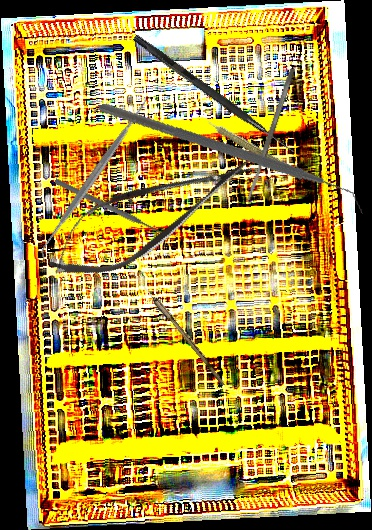Chopper: (98, 52, 363, 267)
Handpiece: (199, 111, 307, 183)
Hook Surgical: (131, 34, 299, 156)
Micro Scissor: (34, 132, 266, 298)
Pusher: (53, 177, 168, 239)
Spatula Surgical: (30, 93, 157, 262), (244, 67, 297, 202)
Surgical Spoon: (126, 266, 228, 387)
